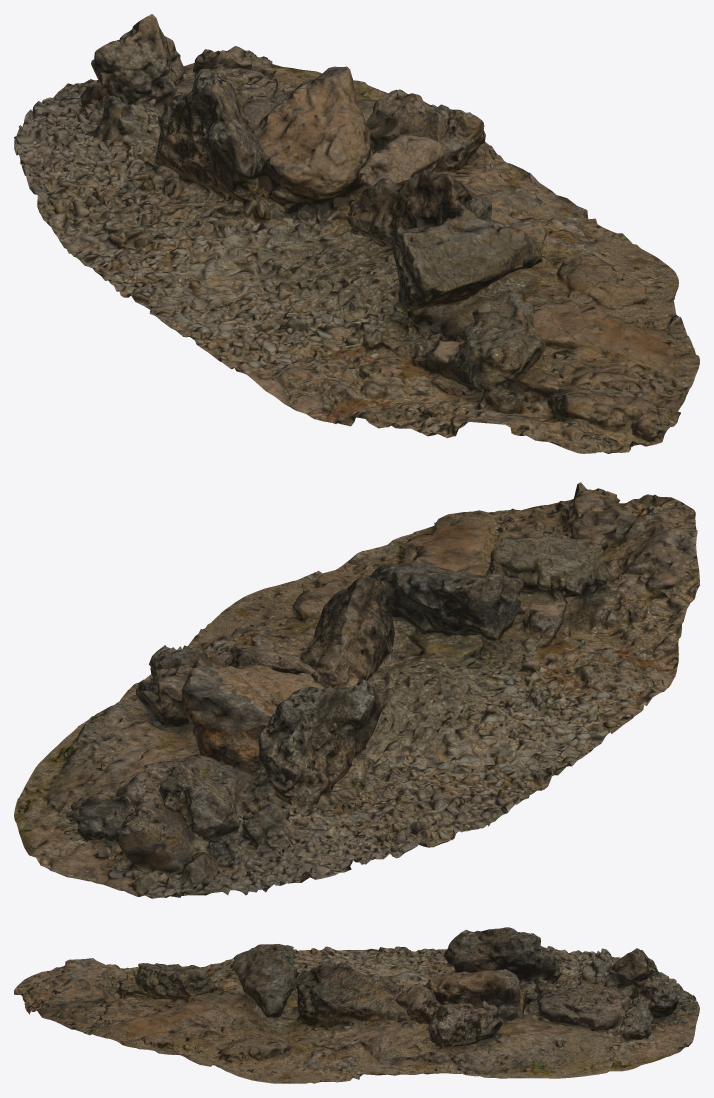
Rendered from field-rock-gravel-low.glb.
3 renders of one model, top to bottom at view 1: azimuth 30°, elevation 25°; view 2: azimuth 150°, elevation 25°; view 3: azimuth 270°, elevation 25°, orthographic. The views are drawn at different scales.
Bounding box in the file's own units: 4.89 × 1.39 × 10.44.
Materials: 1 (1 with a texture image).
